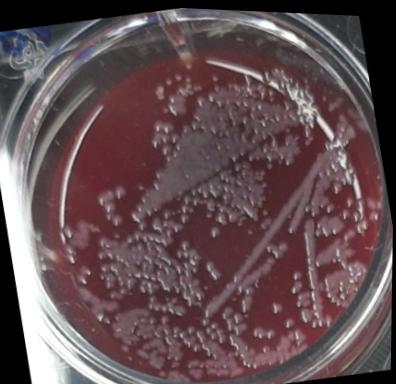asalmonicida: (94, 188, 116, 216), (250, 321, 278, 342), (148, 115, 176, 136), (165, 92, 188, 117), (136, 275, 162, 297), (203, 256, 224, 281), (264, 239, 286, 261), (111, 179, 130, 201), (267, 295, 287, 314), (144, 292, 163, 312), (296, 305, 316, 323), (150, 81, 167, 101), (205, 221, 223, 239), (236, 294, 253, 313), (287, 277, 304, 294), (109, 212, 125, 229), (172, 302, 190, 317), (218, 304, 236, 319), (79, 263, 94, 278), (282, 313, 297, 328), (76, 274, 90, 289), (289, 265, 303, 280), (179, 238, 192, 251), (209, 318, 220, 330)
